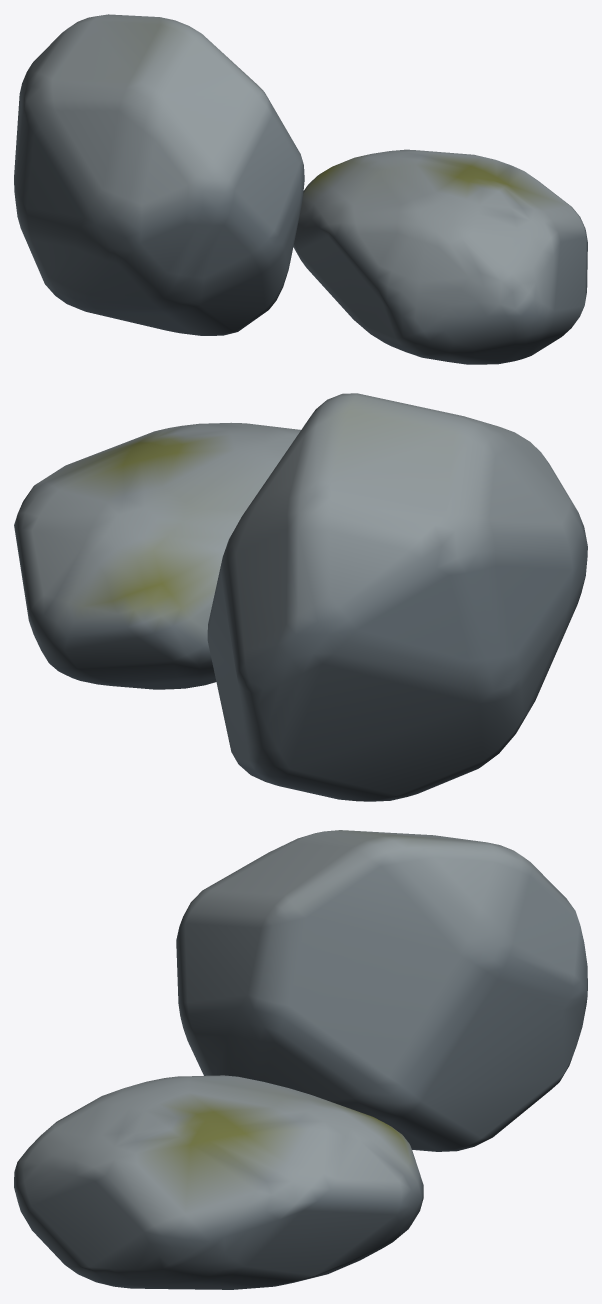
Rendered from stone-e.glb.
The picture shows the model from 3 angles, top to bottom: view 1: azimuth 30°, elevation 25°; view 2: azimuth 150°, elevation 25°; view 3: azimuth 270°, elevation 25°; orthographic projection. The views are drawn at different scales.
Parts seen in each view (by area): view 1: stone-e; view 2: stone-e; view 3: stone-e.
Boxes of the visible parts, x1=… form: stone-e: x1=14, y1=14, x2=587, y2=364; stone-e: x1=14, y1=393, x2=587, y2=801; stone-e: x1=14, y1=830, x2=587, y2=1289.
Bounding box in the file's own units: 1 × 0.6047 × 0.98.
